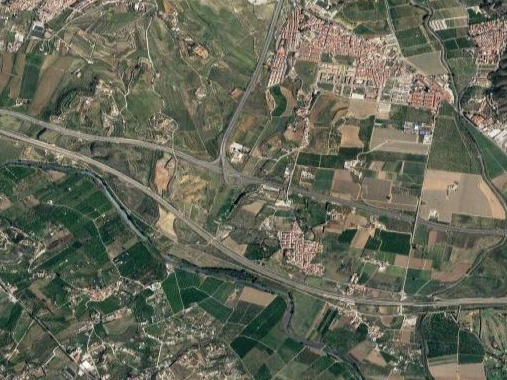motorway: (184, 216, 261, 269), (261, 269, 364, 308), (116, 171, 185, 219), (171, 147, 247, 187), (365, 292, 507, 310), (248, 174, 329, 202), (412, 217, 507, 239), (329, 195, 412, 218), (217, 92, 246, 148), (244, 36, 271, 91), (58, 145, 114, 171), (1, 125, 56, 151), (112, 130, 169, 151), (56, 123, 112, 144), (1, 107, 56, 128), (264, 1, 282, 36)
